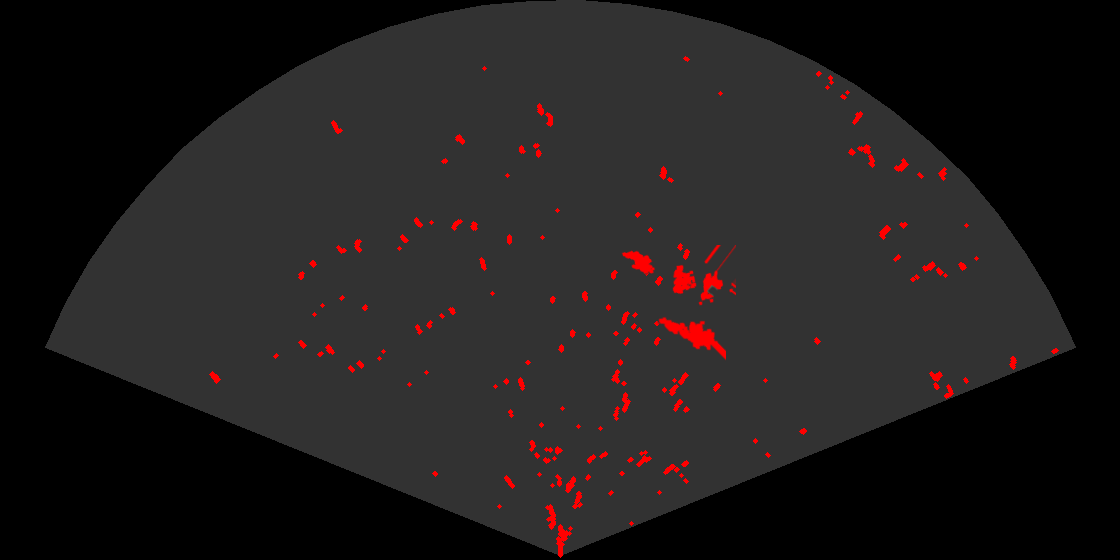AUV: (620, 249, 657, 276)
cage: (671, 245, 736, 307)
frogman: (657, 315, 726, 362)
